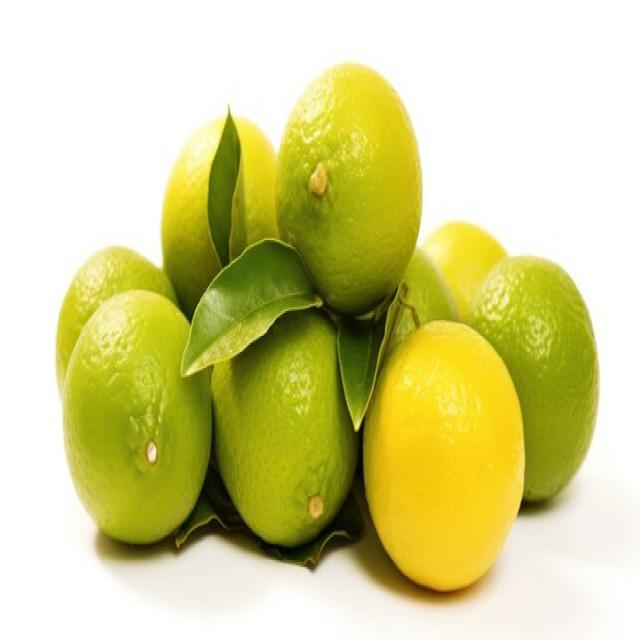Lemon: (362, 316, 526, 592), (62, 288, 212, 546), (274, 58, 423, 314), (210, 308, 357, 548), (466, 253, 599, 503), (160, 106, 279, 314), (55, 244, 179, 398), (420, 219, 508, 320)
